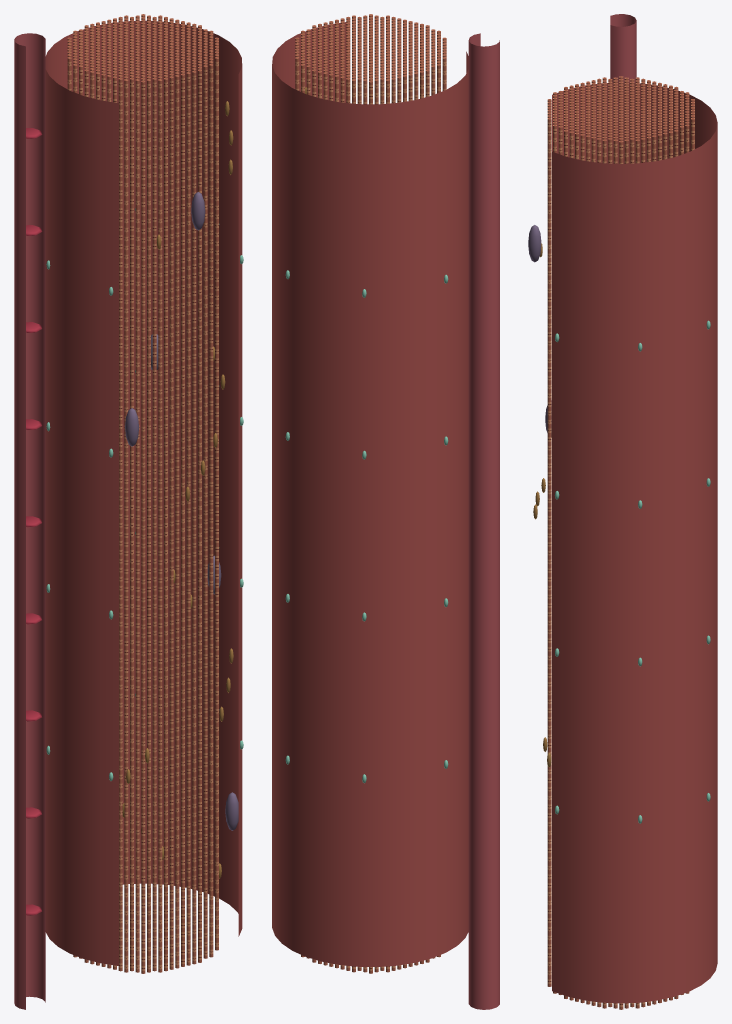
Rendered from fiber-context.glb.
3 views of the same model, side by side, from view 1: azimuth 30°, elevation 25°; view 2: azimuth 150°, elevation 25°; view 3: azimuth 270°, elevation 25° (orthographic). The views are drawn at different scales.
Parts seen in each view (by area): view 1: pilot-sarcolemma, pilot-myofibrils, pilot-fiber-capillary, pilot-myonuclei, pilot-erythrocytes, pilot-mitochondria; view 2: pilot-sarcolemma, pilot-fiber-capillary, pilot-myofibrils; view 3: pilot-sarcolemma, pilot-myofibrils, pilot-fiber-capillary, pilot-myonuclei.
Part boxes in pixels (box(x1,y1,x2,y2)): pilot-sarcolemma: box(45, 20, 242, 965); pilot-myofibrils: box(67, 14, 218, 973); pilot-fiber-capillary: box(14, 33, 45, 1009); pilot-myonuclei: box(125, 192, 238, 830); pilot-erythrocytes: box(26, 128, 42, 915); pilot-mitochondria: box(122, 101, 233, 878); pilot-sarcolemma: box(272, 22, 468, 966); pilot-fiber-capillary: box(468, 33, 499, 1009); pilot-myofibrils: box(295, 14, 446, 973); pilot-sarcolemma: box(552, 82, 717, 1003); pilot-myofibrils: box(547, 76, 694, 1009); pilot-fiber-capillary: box(610, 14, 636, 82); pilot-myonuclei: box(528, 225, 551, 437).
Size of the model in its own units: 6.23e-05 by 0.000268 by 4.91e-05.
Materials: 7 (1 with a texture image).
